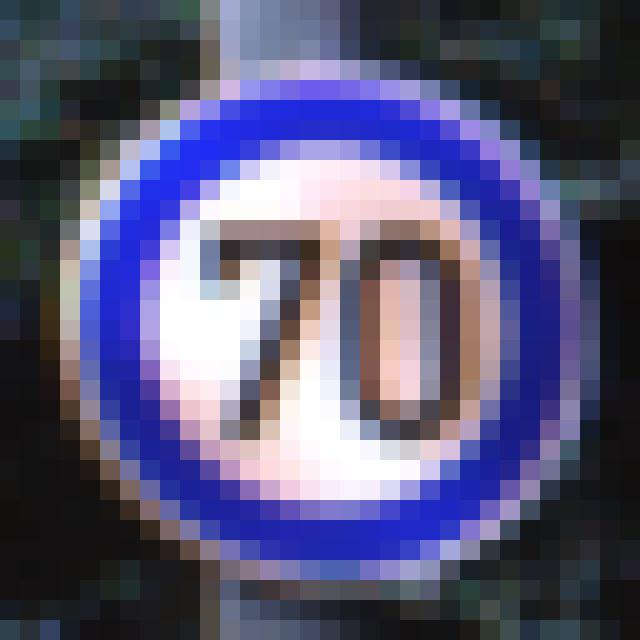SPEED LIMIT 70: (57, 76, 596, 590)
